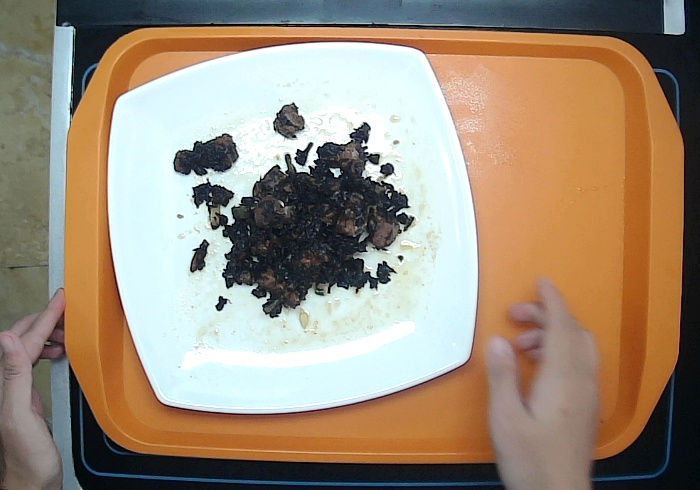ZNLD-Bai_Fang_Pan: (107, 41, 479, 414)
